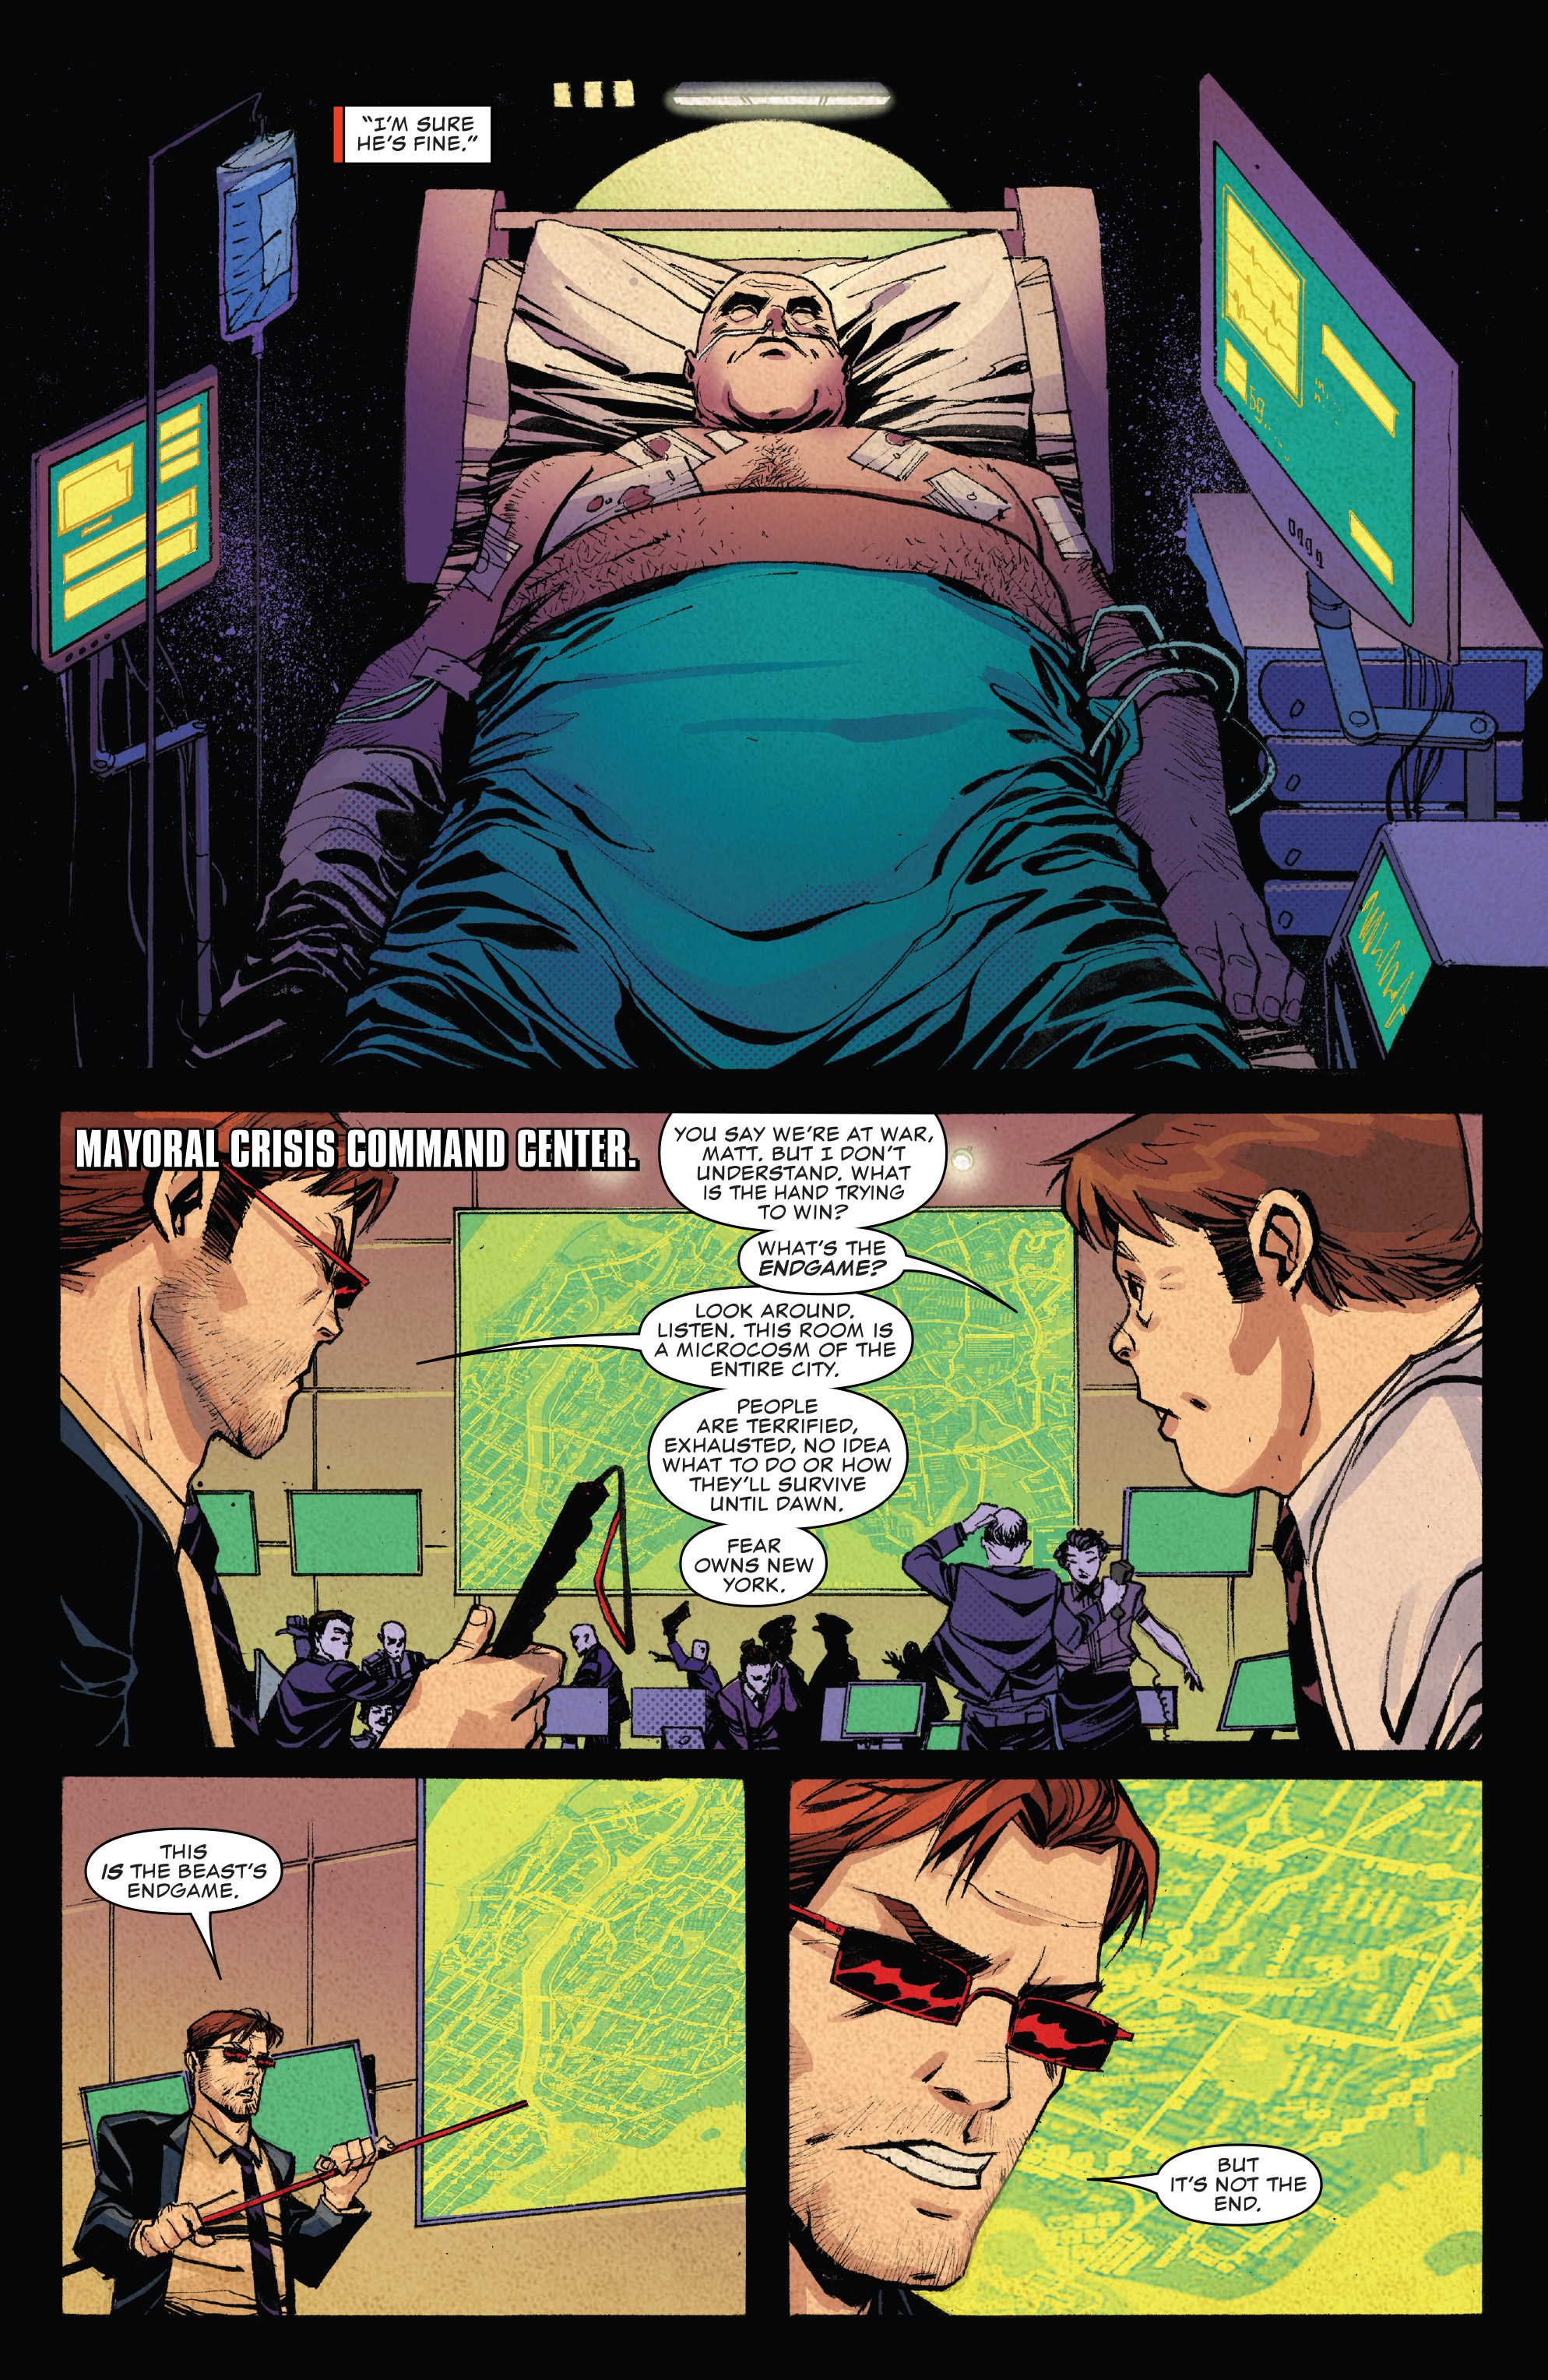Baloon: (650, 1389, 924, 1605), (546, 1285, 920, 1396), (75, 1827, 312, 1986), (660, 1112, 946, 1230), (1097, 2146, 1328, 2227), (742, 1237, 972, 1301), (331, 99, 491, 177)
Vignetta: (16, 68, 1548, 1089), (49, 1105, 1491, 1754), (55, 1764, 752, 2321), (790, 1783, 1487, 2309)
